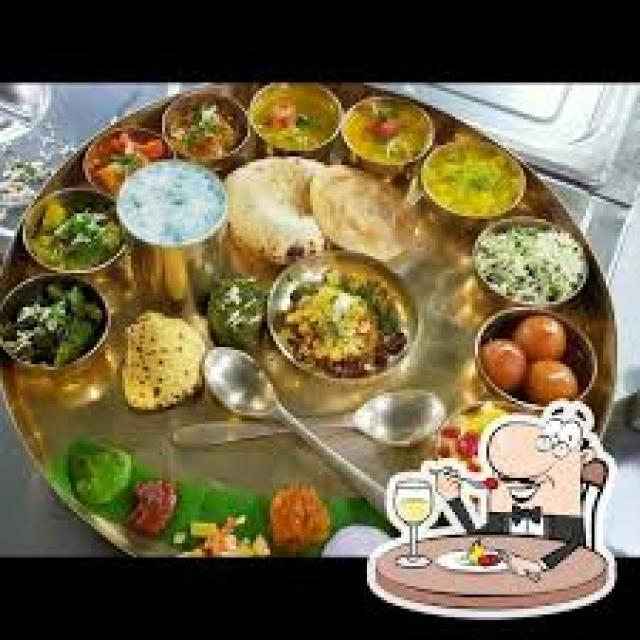curd: (113, 159, 231, 254)
dal: (421, 132, 538, 222)
papad: (225, 160, 326, 265), (311, 163, 421, 259), (118, 310, 207, 412)
rice: (260, 247, 419, 386), (474, 221, 597, 310), (115, 161, 230, 252)
sambar-rasam: (76, 121, 168, 191)
sweet: (472, 309, 601, 408), (75, 122, 167, 193)
